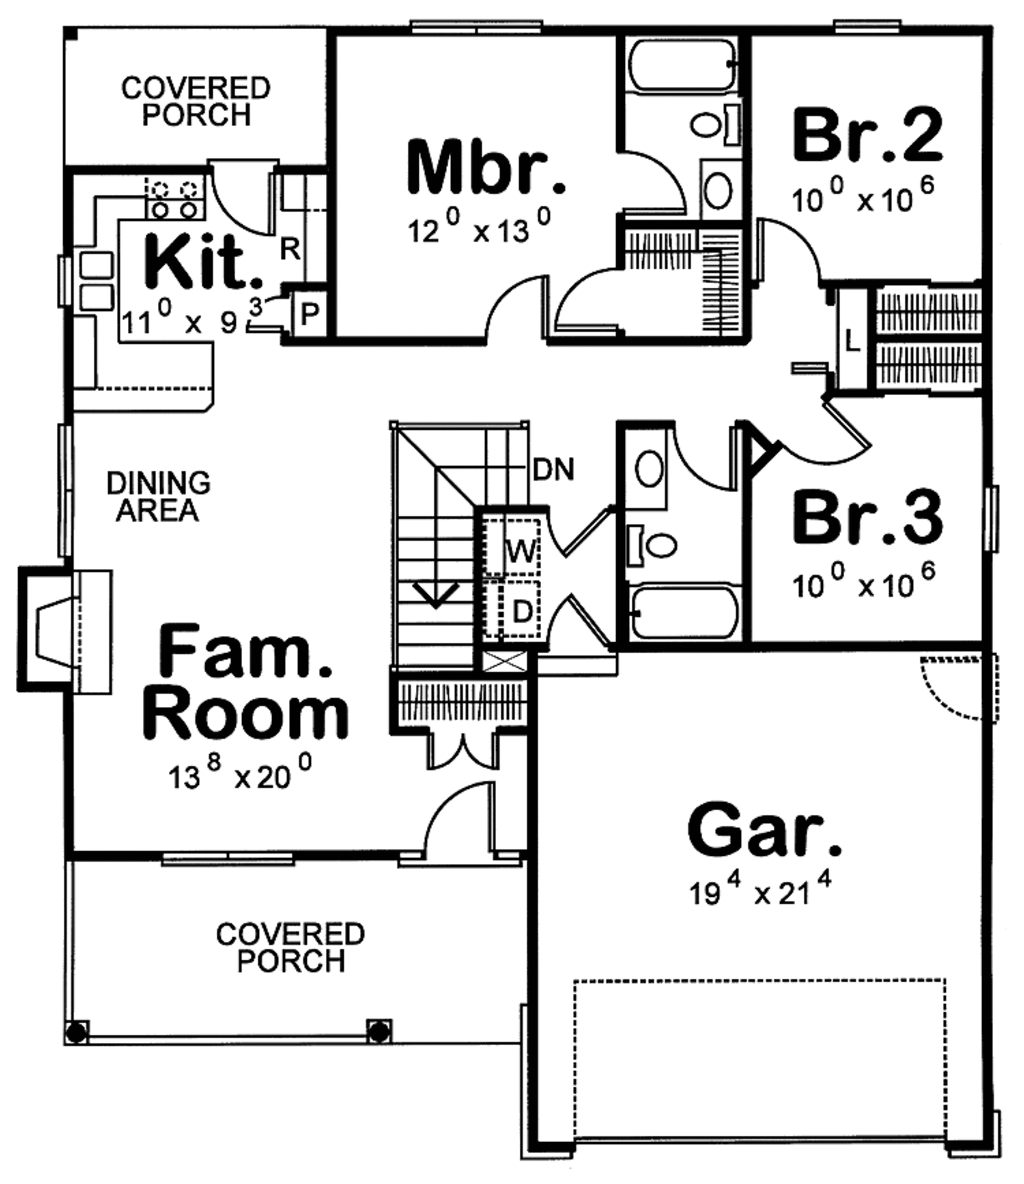door: (411, 777, 507, 870), (767, 394, 871, 477), (207, 154, 280, 239), (751, 219, 834, 290), (667, 423, 747, 494), (616, 148, 687, 225), (469, 277, 551, 341), (558, 268, 631, 337), (549, 592, 612, 657), (425, 730, 505, 772), (547, 510, 609, 565)
large_sink: (621, 519, 683, 577)
stairs: (354, 401, 543, 692)
tub: (616, 37, 736, 90), (629, 588, 747, 637)
twin_sink: (69, 235, 124, 324)
window: (401, 10, 541, 48), (151, 843, 300, 875), (834, 15, 916, 39), (981, 479, 996, 550)
